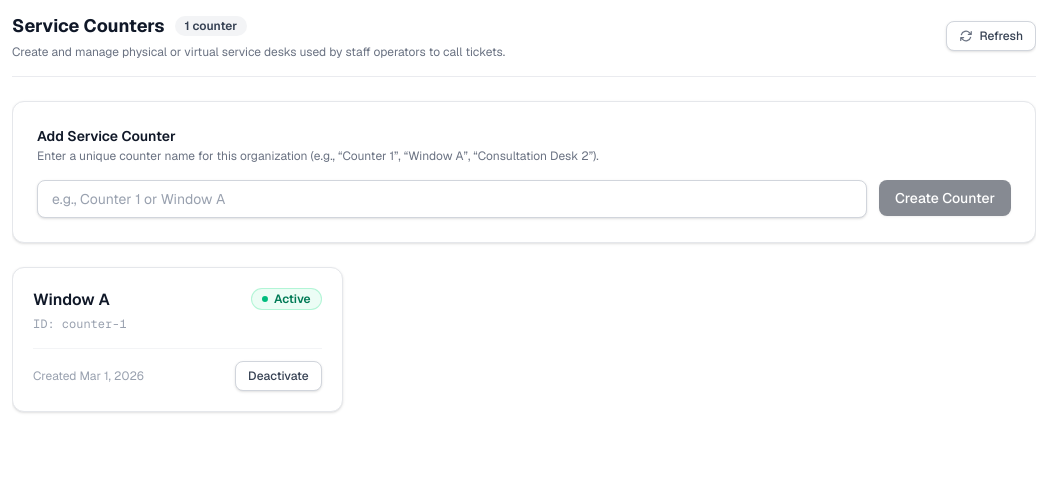
Test: components/admin/CounterManagement › Counter activation and deactivation controls › successfully deactivates an active counter and updates UI status
Check: the heading "Window A" is shown, box [33,289,110,310]
Check: the text "Active" is shown, box [251,288,322,310]
Click the button with aria-label "deactivate window a" at (278, 376), box [235,361,322,391]
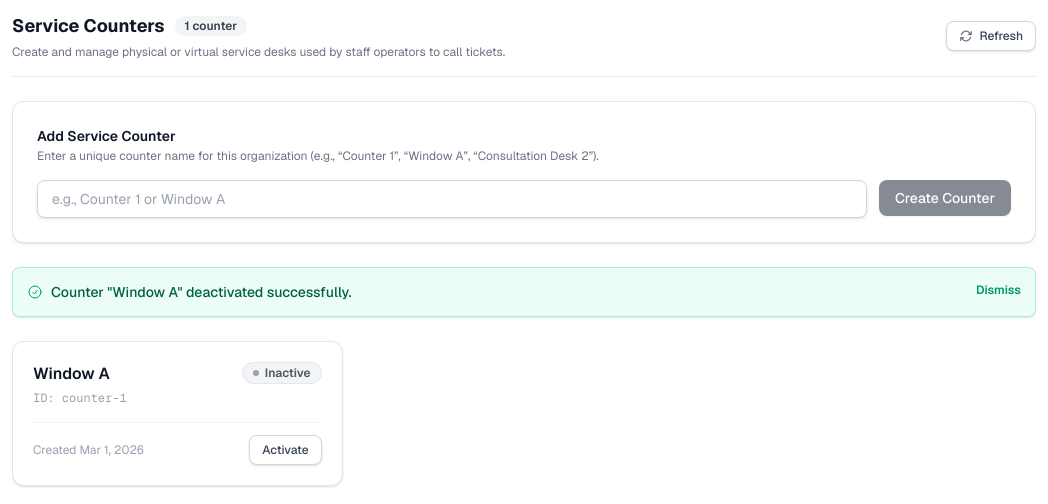
Check: the button with aria-label "activate window a" is shown, box [249,435,322,465]
Check: the text "Counter \"Window A\" deactivated successfully." is shown, box [51,282,351,302]
Check: the text "Inactive" is shown, box [242,362,322,384]
